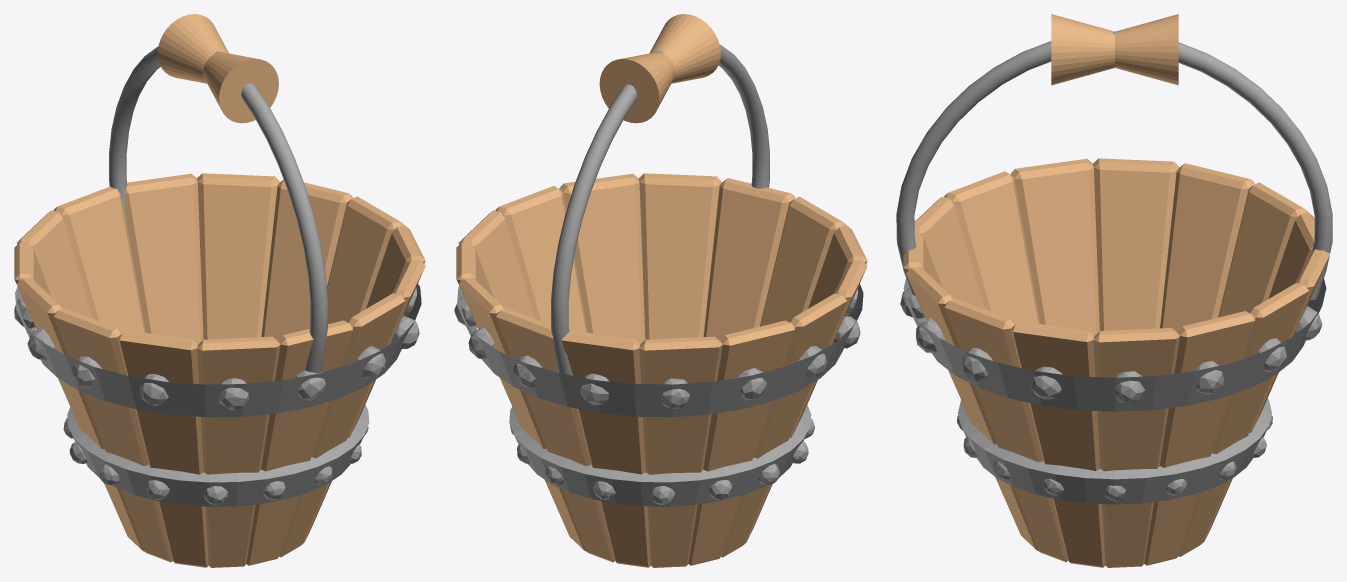
The model's file is Bucket.fbx.
The picture shows the model from 3 angles, left to right: view 1: azimuth 30°, elevation 25°; view 2: azimuth 150°, elevation 25°; view 3: azimuth 270°, elevation 25°; orthographic projection. The views are drawn at different scales.
Visible parts, largest first — view 1: Bucket; view 2: Bucket; view 3: Bucket.
Boxes of the visible parts, x1,y1,x2,y2 form: Bucket: (14, 14, 425, 567); Bucket: (454, 14, 867, 567); Bucket: (896, 14, 1332, 567).
Size of the model in its own units: 688 by 904 by 699.
